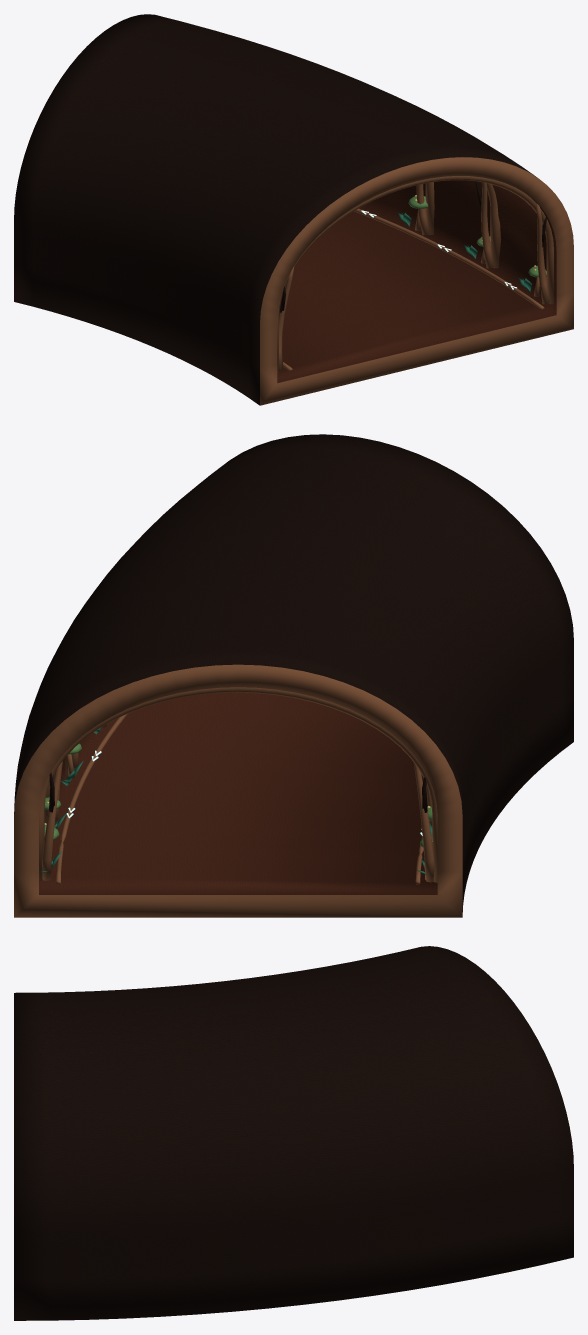
Rendered from curve_left_30.glb.
3 views of the same model, one above another, from view 1: azimuth 30°, elevation 25°; view 2: azimuth 150°, elevation 25°; view 3: azimuth 270°, elevation 25° (orthographic). The views are drawn at different scales.
Visible parts, largest first — view 1: TunnelGeometry; view 2: TunnelGeometry; view 3: TunnelGeometry.
Boxes of the visible parts, x1,y1,x2,y2 form: TunnelGeometry: (14, 14, 573, 405); TunnelGeometry: (14, 434, 573, 917); TunnelGeometry: (14, 946, 573, 1320).
Size of the model in its own units: 19.1 by 9.52 by 21.83.
Materials: 7 (2 with a texture image).
